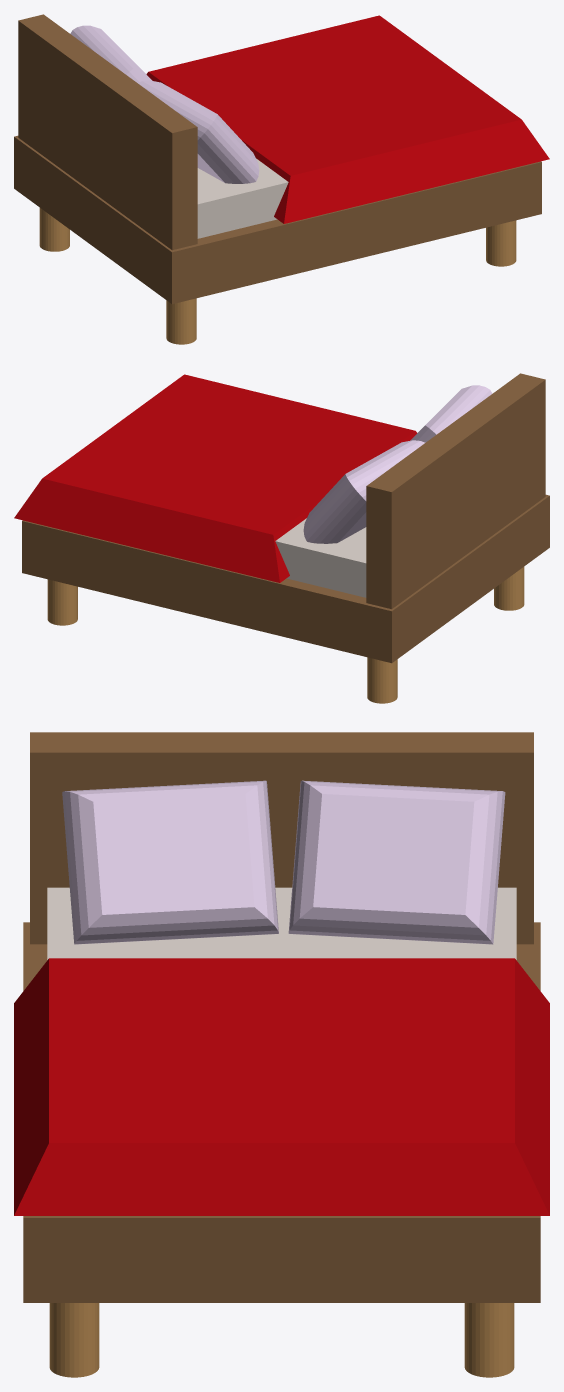
Rendered from bed.fbx.
3 renders of one model, top to bottom at view 1: azimuth 30°, elevation 25°; view 2: azimuth 150°, elevation 25°; view 3: azimuth 270°, elevation 25°, orthographic. The views are drawn at different scales.
Visible parts, largest first — view 1: Cube.005, Cube, Cube.001, Cube.002, Cube.003, Cylinder, Cube.004; view 2: Cube.005, Cube, Cube.001, Cube.002, Cube.004, Cylinder, Cube.003; view 3: Cube.005, Cube, Cube.001, Cube.004, Cube.003, Cube.002, Cylinder.
Part boxes in pixels (<box>): Cube.005: <box>146,15,549,223</box>; Cube: <box>14,135,541,304</box>; Cube.001: <box>18,14,197,250</box>; Cube.002: <box>197,158,288,238</box>; Cube.003: <box>138,80,259,183</box>; Cylinder: <box>39,208,516,344</box>; Cube.004: <box>70,25,152,82</box>; Cube.005: <box>14,374,416,582</box>; Cube: <box>22,494,549,663</box>; Cube.001: <box>366,373,545,609</box>; Cube.002: <box>275,518,366,597</box>; Cube.004: <box>303,440,425,543</box>; Cylinder: <box>47,567,524,703</box>; Cube.003: <box>410,385,492,442</box>; Cube.005: <box>14,958,549,1215</box>; Cube: <box>23,922,540,1302</box>; Cube.001: <box>30,732,533,944</box>; Cube.004: <box>288,780,505,944</box>; Cube.003: <box>62,780,278,944</box>; Cube.002: <box>47,887,516,959</box>; Cylinder: <box>49,1303,514,1377</box>.
Bounding box in the file's own units: 740 × 416 × 559.
